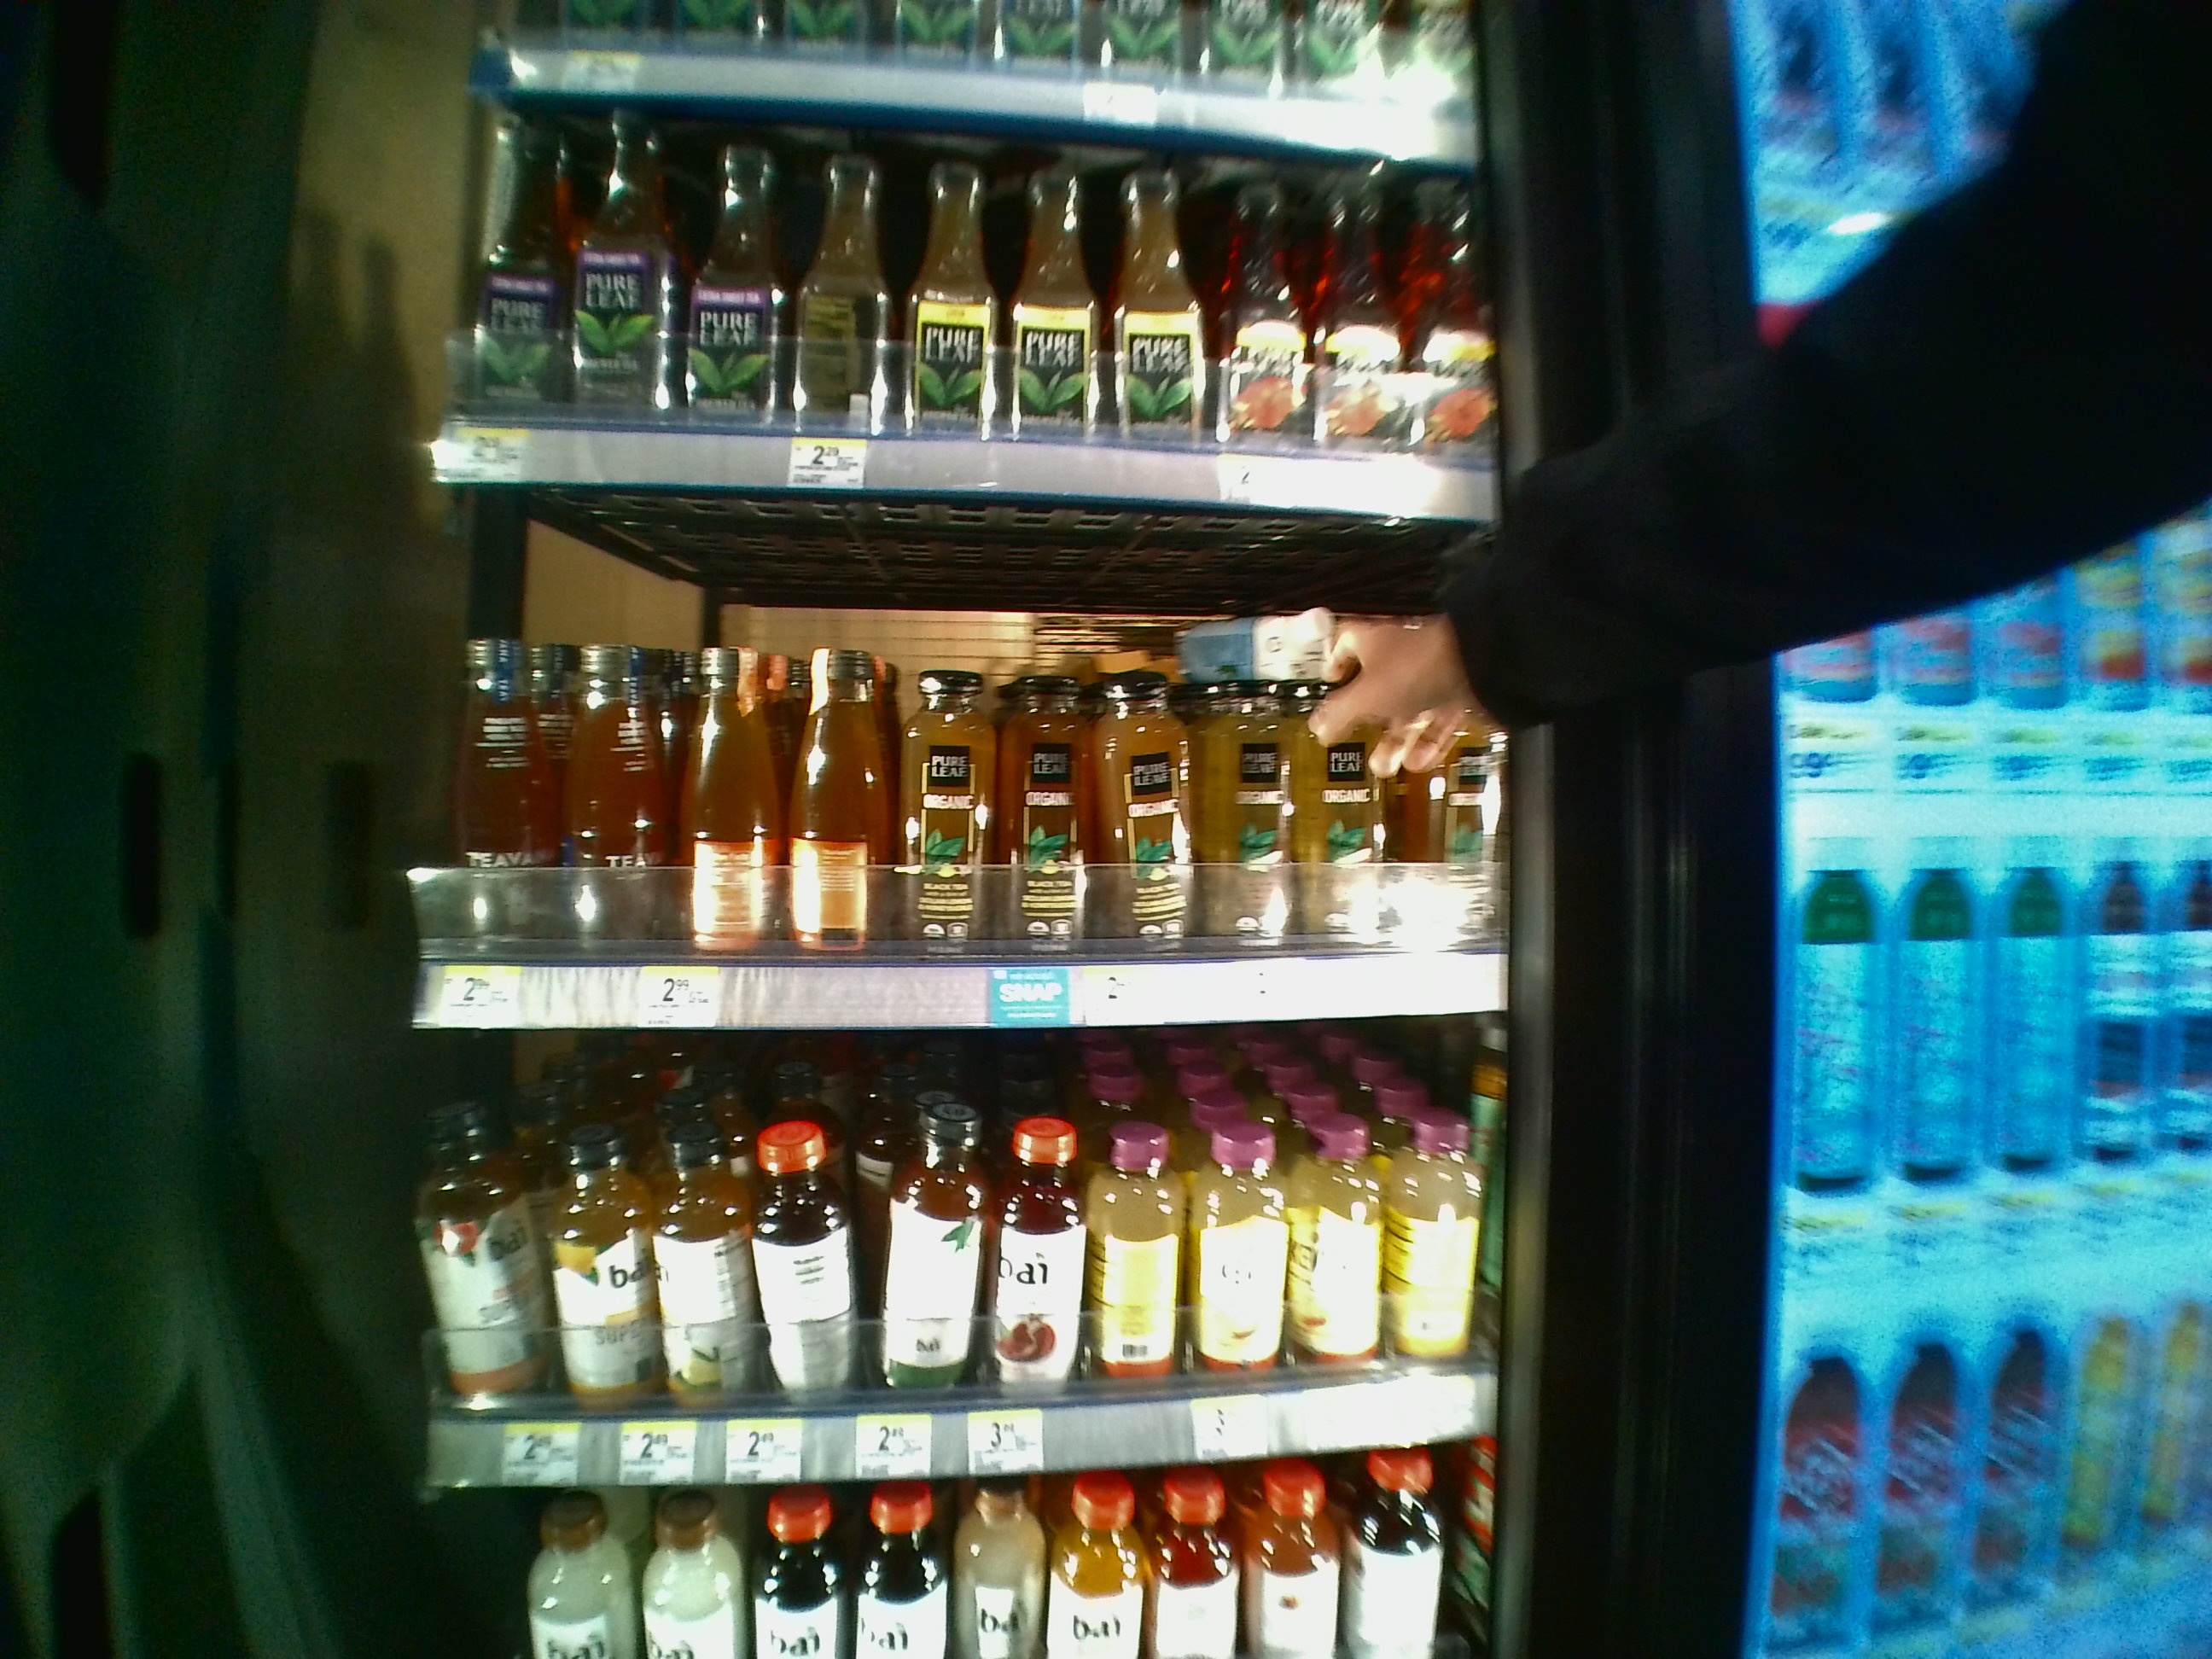shelf: (406, 493, 1521, 1028), (401, 1033, 1514, 1480), (409, 82, 1508, 483)
